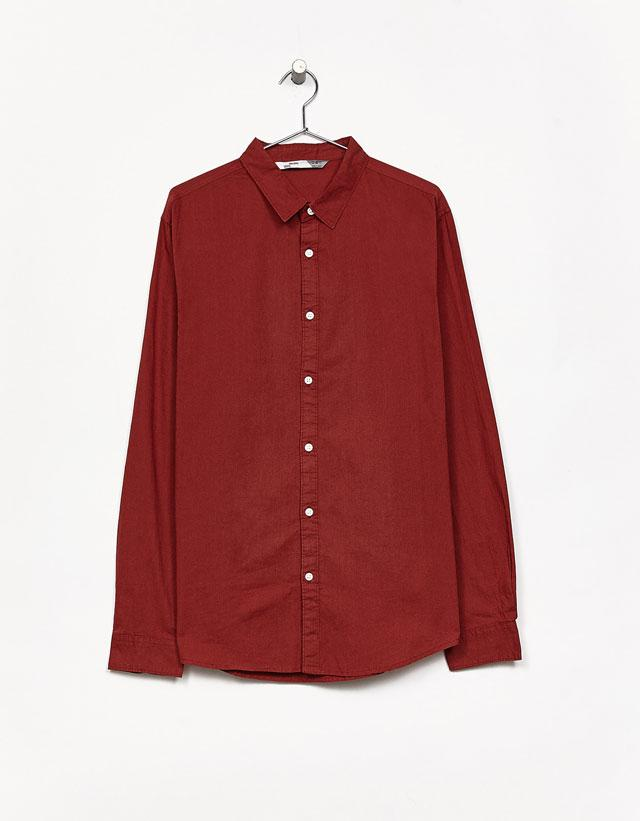teeshirt: (99, 134, 552, 716)
